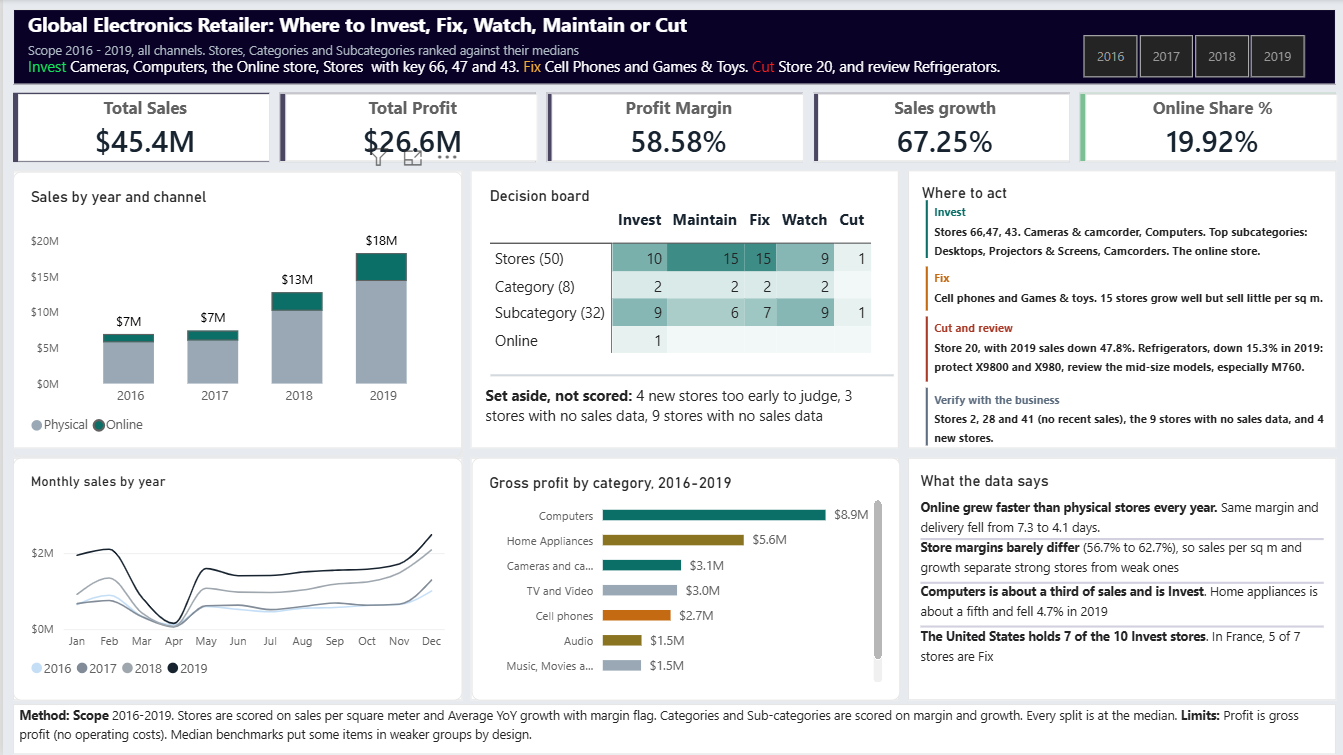

What the dashboard file says about the page in this screenshot:
{"tool":"powerbi","page":{"name":"Overview","canvas":[1280,720],"ordinal":0},"visuals":[{"type":"group","id":"g1","title":"Background Shapes","box":[10,10,1260,710],"z":0},{"type":"shape","box":[10,10,1260,72],"z":0,"group":"g1"},{"type":"textbox","box":[24,12,960,28],"z":0,"group":"g2"},{"type":"slicer","title":"Year","fields":{"Values":["Date.Year"]},"box":[1008,32,250,44],"z":1000},{"type":"textbox","box":[24,38,960,18],"z":1000,"group":"g2"},{"type":"shape","box":[10,90,244,66],"z":1000,"group":"g1"},{"type":"group","id":"g2","title":"Group 1","box":[24,12,960,67],"z":2000},{"type":"textbox","box":[24,55,960,24],"z":2000,"group":"g2"},{"type":"shape","box":[264,90,244,66],"z":2000,"group":"g1"},{"type":"cardVisual","fields":{"Data":["_Measure.Total Sales"]},"box":[14,90,240,64],"z":3000},{"type":"shape","box":[518,90,244,66],"z":3000,"group":"g1"},{"type":"cardVisual","fields":{"Data":["_Measure.Total Profit"]},"box":[269,90,240,64],"z":4000},{"type":"shape","box":[772,90,244,66],"z":4000,"group":"g1"},{"type":"cardVisual","fields":{"Data":["_Measure.Profit Margin"]},"box":[523,90,240,64],"z":5000},{"type":"shape","box":[1026,90,244,66],"z":5000,"group":"g1"},{"type":"cardVisual","fields":{"Data":["_Measure.Sales YoY%"]},"box":[776,90,240,64],"z":6000},{"type":"shape","box":[10,164,428,265],"z":6000,"group":"g1"},{"type":"cardVisual","fields":{"Data":["_Measure.Online Share %"]},"box":[1031,90,240,64],"z":7000},{"type":"shape","box":[446,164,408,265],"z":7000,"group":"g1"},{"type":"columnChart","title":"Sales by year and channel","fields":{"Category":["Date.Year"],"Series":["Sales_Clean.Channel"],"Y":["_Measure.Total Sales"]},"box":[10,164,428,272],"z":8000},{"type":"shape","box":[862,164,408,265],"z":8000,"group":"g1"},{"type":"pivotTable","title":"Decision board","fields":{"Columns":["_Labels.Label"],"Values":["_Labels.Stores","_Labels.Category","_Labels.Subcategory","_Labels.Online"]},"box":[448,164,408,192],"z":9000},{"type":"shape","box":[10,437,428,231],"z":9000,"group":"g1"},{"type":"textbox","box":[460,368,384,48],"z":10000},{"type":"shape","box":[446,437,408,231],"z":10000,"group":"g1"},{"type":"shape","box":[464,352,384,12],"z":11000},{"type":"shape","box":[862,437,408,231],"z":11000,"group":"g1"},{"type":"textbox","title":"  Where to act","box":[875,176,400,16],"z":12000},{"type":"shape","box":[10,672,1260,48],"z":12000,"group":"g1"},{"type":"textbox","box":[887,192,372,55],"z":13000},{"type":"textbox","box":[887,255,372,42],"z":14000},{"type":"textbox","box":[887,302,372,62],"z":15000},{"type":"textbox","box":[887,370,372,55],"z":16000},{"type":"shape","box":[874,192,12,55],"z":17000},{"type":"shape","box":[874,255,12,42],"z":18000},{"type":"shape","box":[874,302,12,62],"z":19000},{"type":"shape","box":[874,370,12,55],"z":20000},{"type":"lineChart","title":"Monthly sales by year","fields":{"Category":["Date.Month"],"Series":["Date.Year"],"Y":["_Measure.Total Sales"]},"box":[10,437,428,231],"z":21000},{"type":"clusteredBarChart","title":"Gross profit by category, 2016-2019","fields":{"Category":["CategoryScorecard.Category"],"Y":["_Measure.Total Profit"]},"box":[446,437,408,231],"z":22000},{"type":"textbox","title":"What the data says","box":[874,450,250,18],"z":23000},{"type":"textbox","box":[874,474,384,38],"z":24000},{"type":"textbox","box":[874,512,384,38],"z":25000},{"type":"textbox","box":[874,554,384,38],"z":26000},{"type":"textbox","box":[874,596,384,38],"z":27000},{"type":"shape","box":[874,508,384,12],"z":28000},{"type":"shape","box":[874,550,384,12],"z":29000},{"type":"shape","box":[874,592,384,12],"z":30000},{"type":"textbox","box":[16,672,1248,42],"z":31000}]}

Visuals, with their boxes in screenshot pixels (x1, y1, x2, y2), scaled from the page's 1280x720 canvas onto the 1343x755 screenshot:
"Background Shapes" group: detection(10, 10, 1333, 754)
shape: detection(10, 10, 1333, 86)
textbox: detection(25, 13, 1032, 42)
"Year" slicer: detection(1058, 34, 1320, 80)
textbox: detection(25, 40, 1032, 59)
shape: detection(10, 94, 267, 164)
"Group 1" group: detection(25, 13, 1032, 83)
textbox: detection(25, 58, 1032, 83)
shape: detection(277, 94, 533, 164)
cardVisual - _Measure.Total Sales: detection(15, 94, 267, 161)
shape: detection(543, 94, 800, 164)
cardVisual - _Measure.Total Profit: detection(282, 94, 534, 161)
shape: detection(810, 94, 1066, 164)
cardVisual - _Measure.Profit Margin: detection(549, 94, 801, 161)
shape: detection(1076, 94, 1333, 164)
cardVisual - _Measure.Sales YoY%: detection(814, 94, 1066, 161)
shape: detection(10, 172, 460, 450)
cardVisual - _Measure.Online Share %: detection(1082, 94, 1334, 161)
shape: detection(468, 172, 896, 450)
"Sales by year and channel" columnChart: detection(10, 172, 460, 457)
shape: detection(904, 172, 1333, 450)
"Decision board" pivotTable: detection(470, 172, 898, 373)
shape: detection(10, 458, 460, 700)
textbox: detection(483, 386, 886, 436)
shape: detection(468, 458, 896, 700)
shape: detection(487, 369, 890, 382)
shape: detection(904, 458, 1333, 700)
"  Where to act" textbox: detection(918, 185, 1338, 201)
shape: detection(10, 705, 1333, 754)
textbox: detection(931, 201, 1321, 259)
textbox: detection(931, 267, 1321, 311)
textbox: detection(931, 317, 1321, 382)
textbox: detection(931, 388, 1321, 446)
shape: detection(917, 201, 930, 259)
shape: detection(917, 267, 930, 311)
shape: detection(917, 317, 930, 382)
shape: detection(917, 388, 930, 446)
"Monthly sales by year" lineChart: detection(10, 458, 460, 700)
"Gross profit by category, 2016-2019" clusteredBarChart: detection(468, 458, 896, 700)
"What the data says" textbox: detection(917, 472, 1179, 491)
textbox: detection(917, 497, 1320, 537)
textbox: detection(917, 537, 1320, 577)
textbox: detection(917, 581, 1320, 621)
textbox: detection(917, 625, 1320, 665)
shape: detection(917, 533, 1320, 545)
shape: detection(917, 577, 1320, 589)
shape: detection(917, 621, 1320, 633)
textbox: detection(17, 705, 1326, 749)
